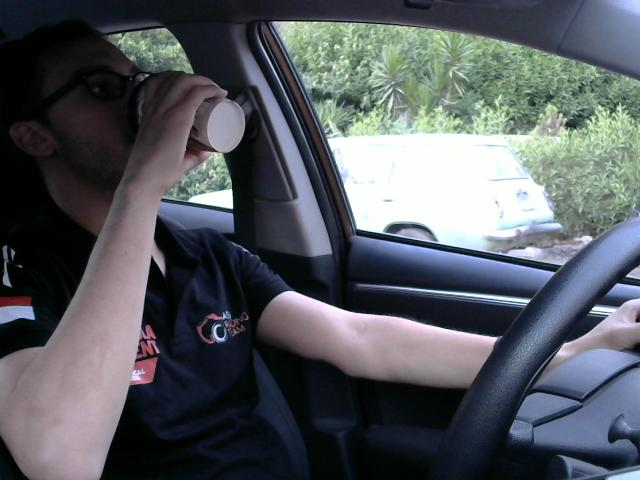Drinking: (127, 74, 250, 160)
